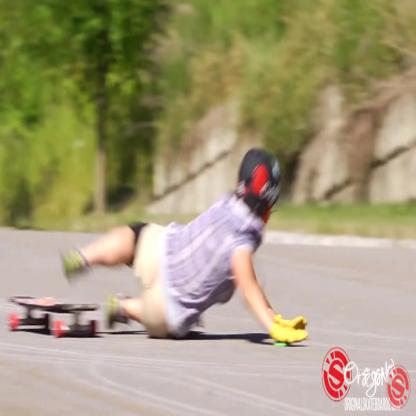Fall_Down: (60, 144, 312, 352)
